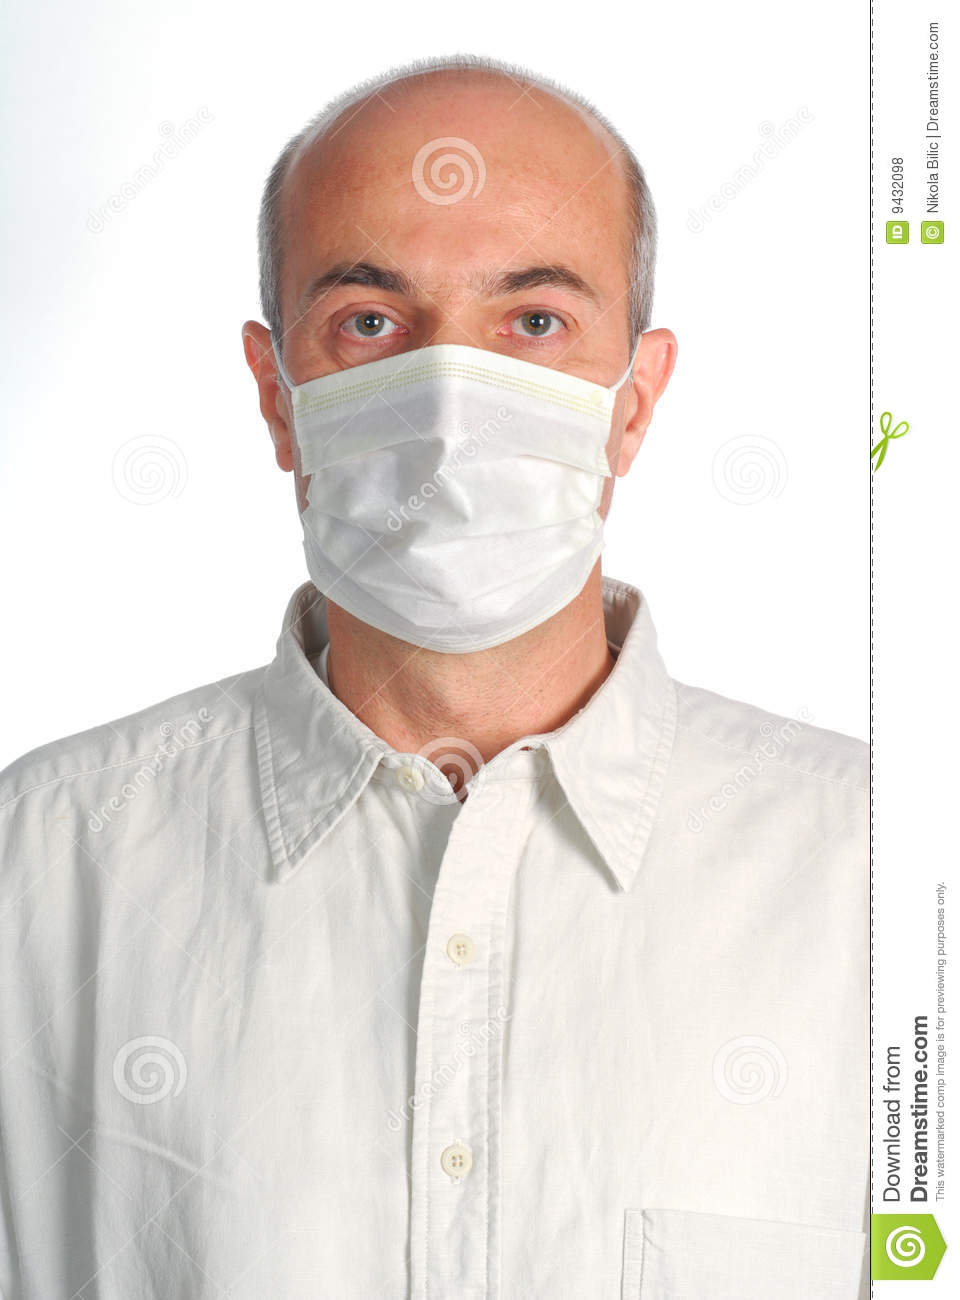mask: (292, 348, 613, 651)
